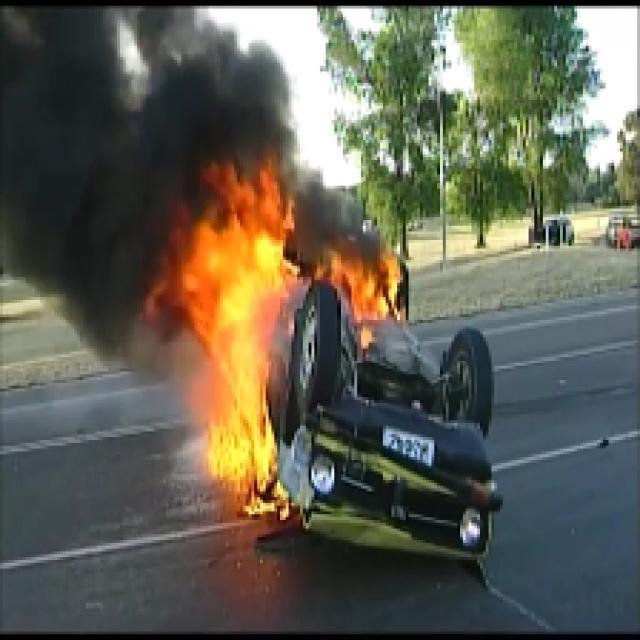Fire: (163, 162, 294, 514), (328, 248, 403, 323)
Smoke: (3, 3, 180, 280)
